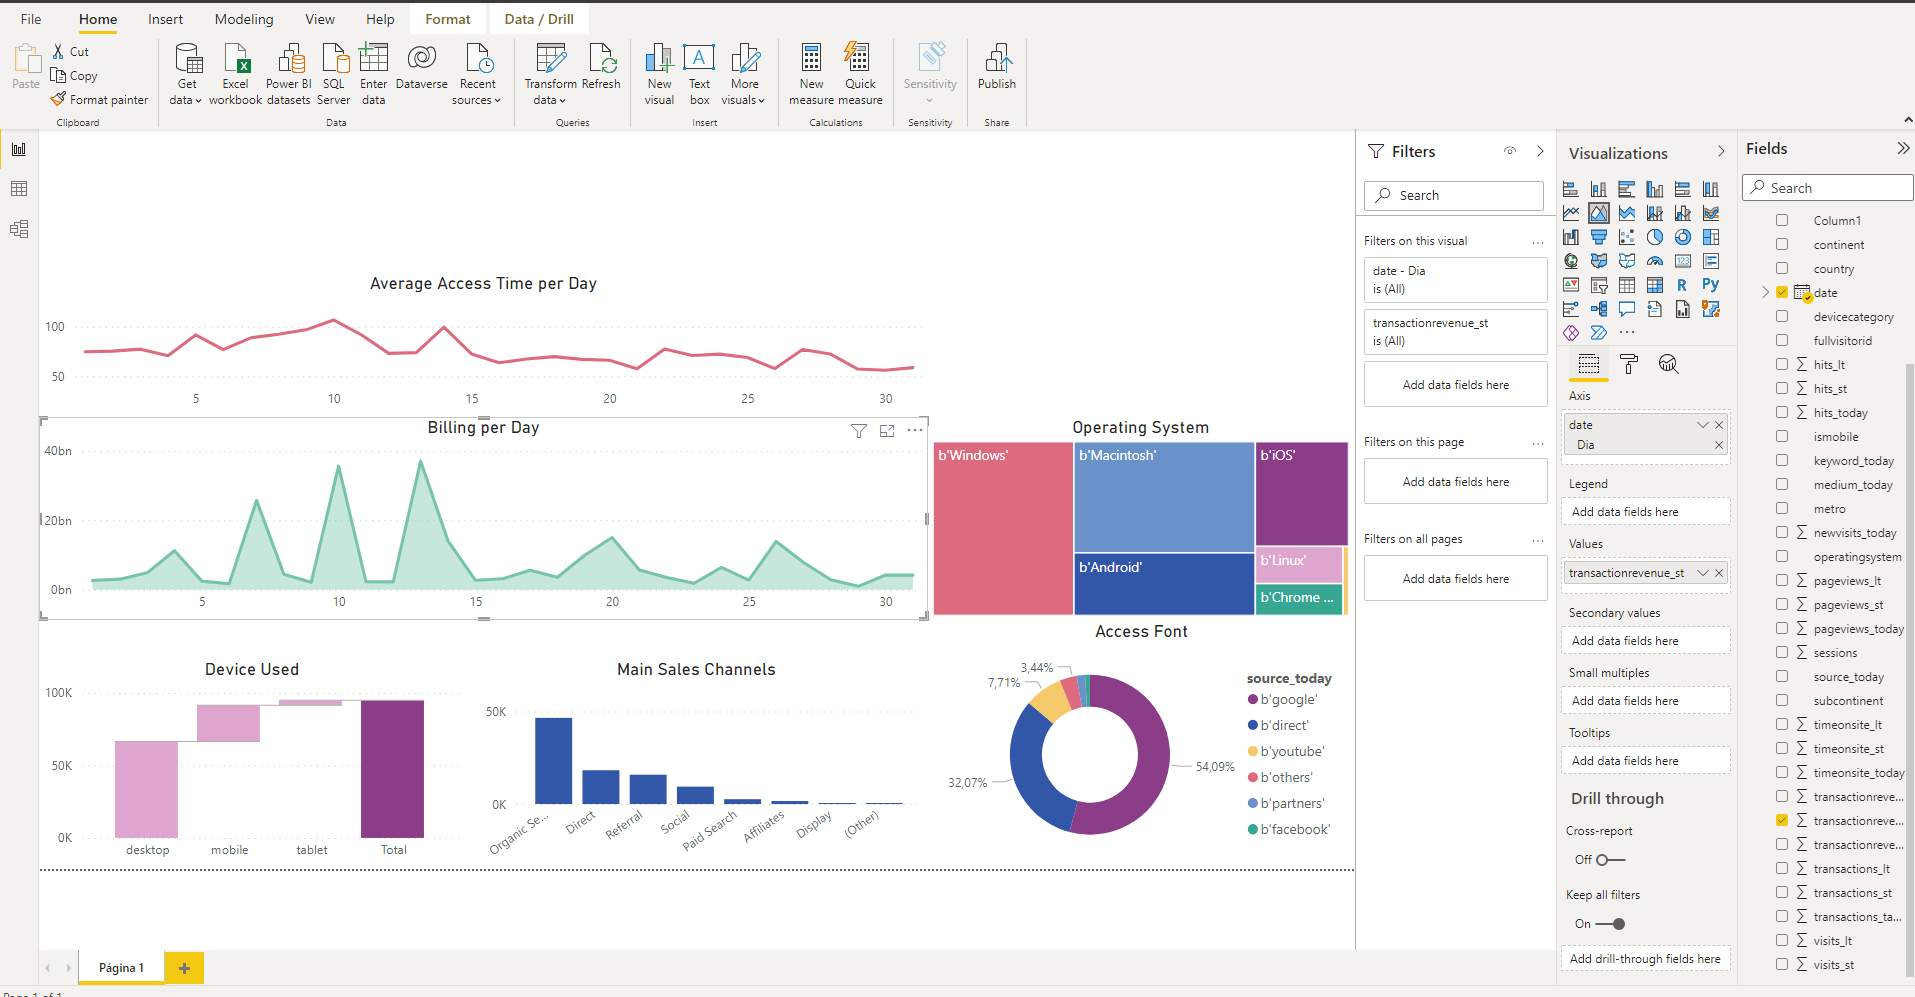

The page's visual inventory and layout, read from the dashboard file:
{"tool":"powerbi","page":{"name":"Página 1","canvas":[1280,720],"ordinal":0},"visuals":[{"type":"columnChart","title":"Main Sales Channels","fields":{"Y":["CountNonNull(dataset.fullvisitorid)"],"Category":["dataset.channelgrouping"]},"box":[414.3,515.5,450.3,204.3],"z":0},{"type":"lineChart","title":"Average Access Time per Day","fields":{"Category":["dataset.date.Variation.Hierarquia de datas.Dia"],"Y":["Avg(dataset.timeonsite_st)"]},"box":[0,140.1,864.7,161.5],"z":1000},{"type":"donutChart","title":"Access Font","fields":{"Category":["dataset.source_today"],"Y":["CountNonNull(dataset.fullvisitorid)"]},"box":[864.7,478.5,415.3,241.2],"z":2000},{"type":"treemap","title":"Operating System","fields":{"Group":["dataset.operatingsystem"],"Values":["CountNonNull(dataset.fullvisitorid)"]},"box":[864.7,301.5,414.3,177],"z":3000},{"type":"waterfallChart","title":"Device Used","fields":{"Y":["CountNonNull(dataset.fullvisitorid)"],"Category":["dataset.devicecategory"]},"box":[0,515.5,414.3,204.3],"z":3001},{"type":"areaChart","title":"Billing per Day","fields":{"Category":["dataset.date.Variation.Hierarquia de datas.Dia"],"Y":["Sum(dataset.transactionrevenue_st)"]},"box":[0,301.5,864.7,176],"z":3002},{"type":"kpi","title":"KPI Pageviews/Day","fields":{"TrendLine":["dataset.date.Variation.Hierarquia de datas.Dia"],"Indicator":["Avg(dataset.pageviews_st)"],"Goal":["dataset.goal"]},"box":[864.7,140.1,414.3,161.5],"z":3003},{"type":"shape","box":[1,45.7,1279,12.6],"z":3004},{"type":"textbox","box":[296.7,0,685.7,45.7],"z":3005},{"type":"slicer","title":"Country","fields":{"Values":["dataset.country"]},"box":[1.9,58.4,1278.1,81.7],"z":3006}]}

Visuals, with their boxes on the page's 1280x720 design canvas (x1, y1, x2, y2). These are canvas units, not pixel positions in the 1915x997 screenshot, which may show the page scaled, cropped or inside an application window:
"Main Sales Channels" columnChart: box(414, 516, 865, 720)
"Average Access Time per Day" lineChart: box(0, 140, 865, 302)
"Access Font" donutChart: box(865, 478, 1280, 720)
"Operating System" treemap: box(865, 302, 1279, 478)
"Device Used" waterfallChart: box(0, 516, 414, 720)
"Billing per Day" areaChart: box(0, 302, 865, 478)
"KPI Pageviews/Day" kpi: box(865, 140, 1279, 302)
shape: box(1, 46, 1280, 58)
textbox: box(297, 0, 982, 46)
"Country" slicer: box(2, 58, 1280, 140)
